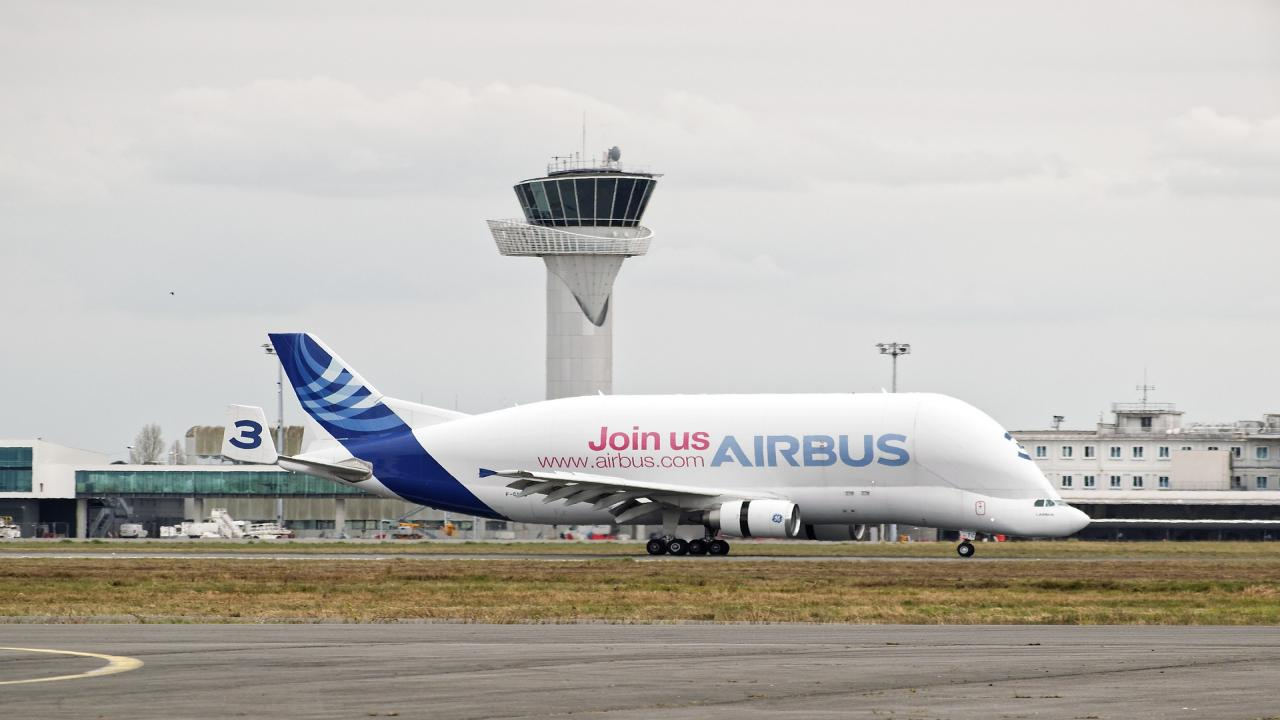Airplane: (207, 323, 1100, 576)
